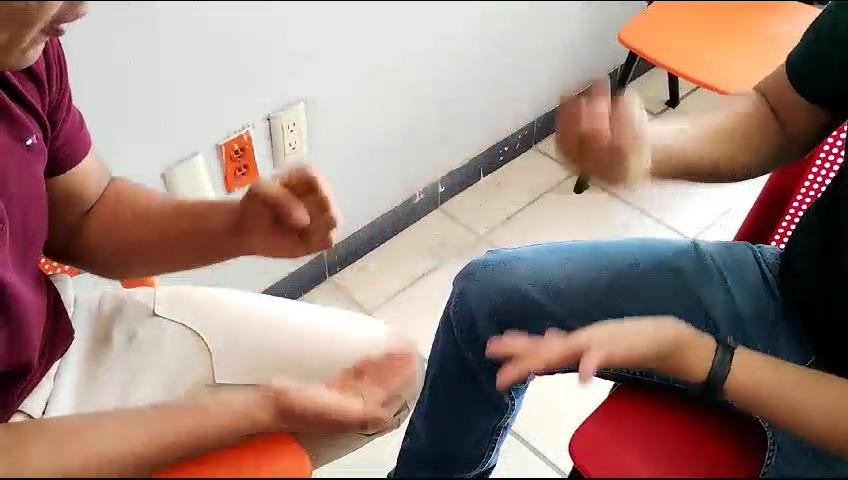Stone: (239, 151, 348, 270)
